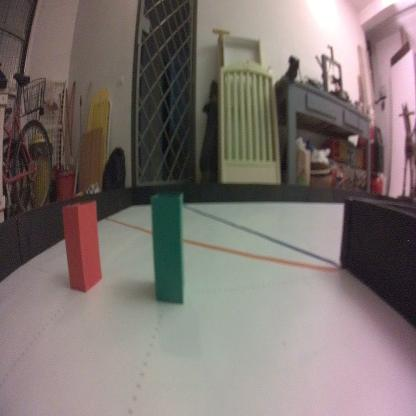green: (150, 185, 186, 308)
red: (59, 199, 103, 294)
